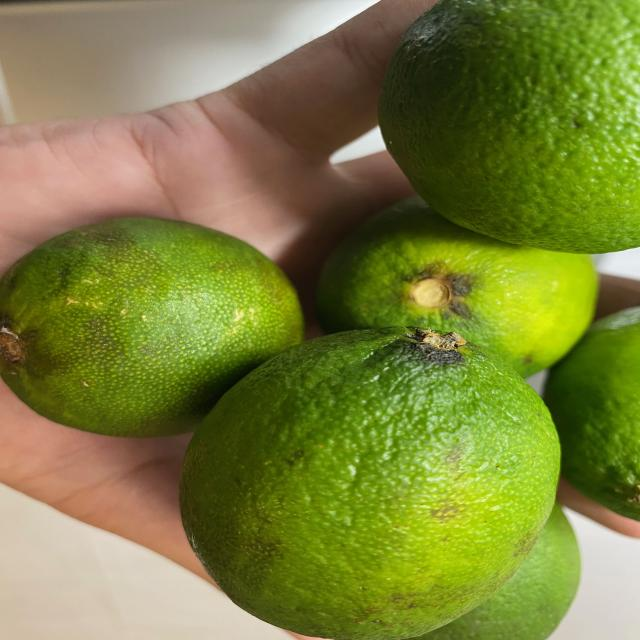lemon: (23, 0, 640, 631)
